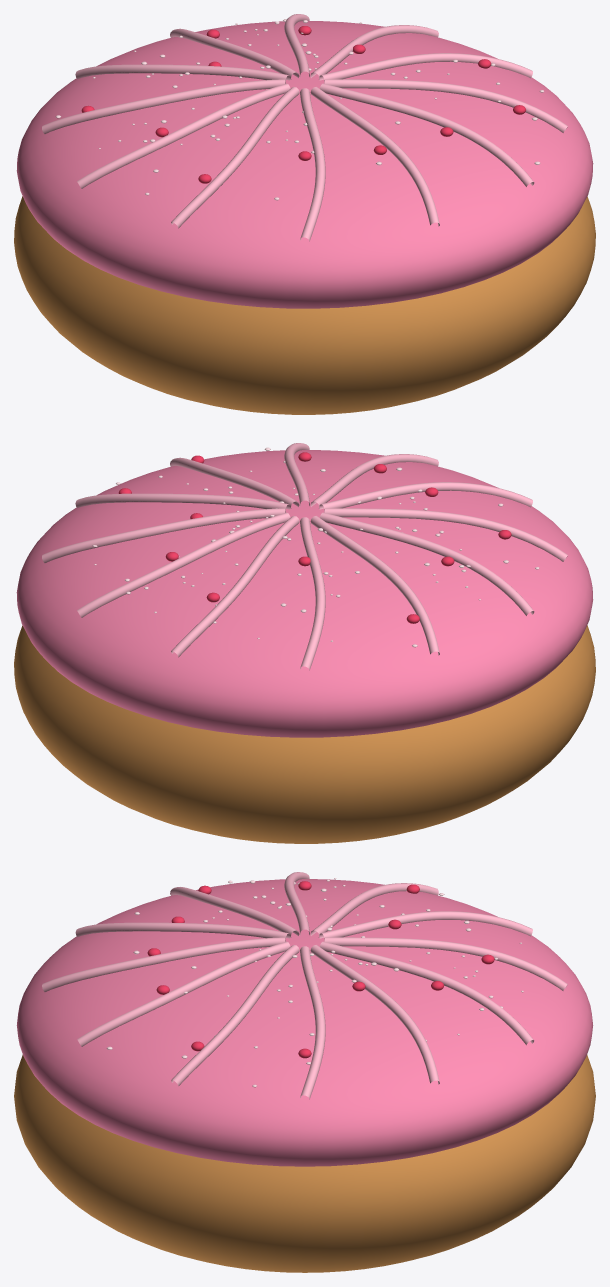
File: ConchaFresa.glb
3 views of the same model, one above another, from view 1: azimuth 30°, elevation 25°; view 2: azimuth 150°, elevation 25°; view 3: azimuth 270°, elevation 25° (orthographic).
Parts seen in each view (by area): view 1: Cubierta_Fresa, Masa_Concha_Fresa, Linea_Relieve_Fresa.005, Linea_Relieve_Fresa.011, Linea_Relieve_Fresa.010, Linea_Relieve_Fresa.006, Linea_Relieve_Fresa.004, Linea_Relieve_Fresa.009, Linea_Relieve_Fresa.007, Linea_Relieve_Fresa, Linea_Relieve_Fresa.008, Linea_Relieve_Fresa.003 (+2 smaller); view 2: Cubierta_Fresa, Masa_Concha_Fresa, Linea_Relieve_Fresa.001, Linea_Relieve_Fresa.007, Linea_Relieve_Fresa.006, Linea_Relieve_Fresa.002, Linea_Relieve_Fresa, Linea_Relieve_Fresa.008, Linea_Relieve_Fresa.005, Linea_Relieve_Fresa.003, Linea_Relieve_Fresa.004, Linea_Relieve_Fresa.009 (+2 smaller); view 3: Cubierta_Fresa, Masa_Concha_Fresa, Linea_Relieve_Fresa.009, Linea_Relieve_Fresa.003, Linea_Relieve_Fresa.010, Linea_Relieve_Fresa.002, Linea_Relieve_Fresa.008, Linea_Relieve_Fresa.004, Linea_Relieve_Fresa.011, Linea_Relieve_Fresa.001, Linea_Relieve_Fresa, Linea_Relieve_Fresa.007 (+2 smaller).
Part boxes in pixels (x1,y1,x2,y2): Cubierta_Fresa: (16,21,593,308); Masa_Concha_Fresa: (14,196,595,414); Linea_Relieve_Fresa.005: (42,79,285,133); Linea_Relieve_Fresa.011: (324,79,567,132); Linea_Relieve_Fresa.010: (320,83,534,186); Linea_Relieve_Fresa.006: (77,83,290,188); Linea_Relieve_Fresa.004: (75,64,290,83); Linea_Relieve_Fresa.009: (310,87,439,226); Linea_Relieve_Fresa.007: (171,87,299,228); Linea_Relieve_Fresa: (319,53,532,80); Linea_Relieve_Fresa.008: (300,88,325,241); Linea_Relieve_Fresa.003: (170,28,299,79); Cubierta_Fresa: (16,450,593,737); Masa_Concha_Fresa: (14,625,595,843); Linea_Relieve_Fresa.001: (42,508,285,562); Linea_Relieve_Fresa.007: (324,508,567,561); Linea_Relieve_Fresa.006: (320,512,534,615); Linea_Relieve_Fresa.002: (77,512,290,617); Linea_Relieve_Fresa: (75,493,290,512); Linea_Relieve_Fresa.008: (319,482,532,509); Linea_Relieve_Fresa.005: (310,516,439,655); Linea_Relieve_Fresa.003: (171,516,299,657); Linea_Relieve_Fresa.004: (300,517,325,670); Linea_Relieve_Fresa.009: (310,454,438,508); Cubierta_Fresa: (16,879,593,1166); Masa_Concha_Fresa: (14,1054,595,1272); Linea_Relieve_Fresa.009: (42,937,285,991); Linea_Relieve_Fresa.003: (324,937,567,990); Linea_Relieve_Fresa.010: (77,941,290,1046); Linea_Relieve_Fresa.002: (320,941,534,1045); Linea_Relieve_Fresa.008: (75,922,290,941); Linea_Relieve_Fresa.004: (319,911,532,938); Linea_Relieve_Fresa.011: (171,945,299,1085); Linea_Relieve_Fresa.001: (310,945,439,1084); Linea_Relieve_Fresa: (300,946,325,1099); Linea_Relieve_Fresa.007: (170,887,299,937).
Bounding box in the file's own units: 1.04 × 0.5622 × 1.04.
